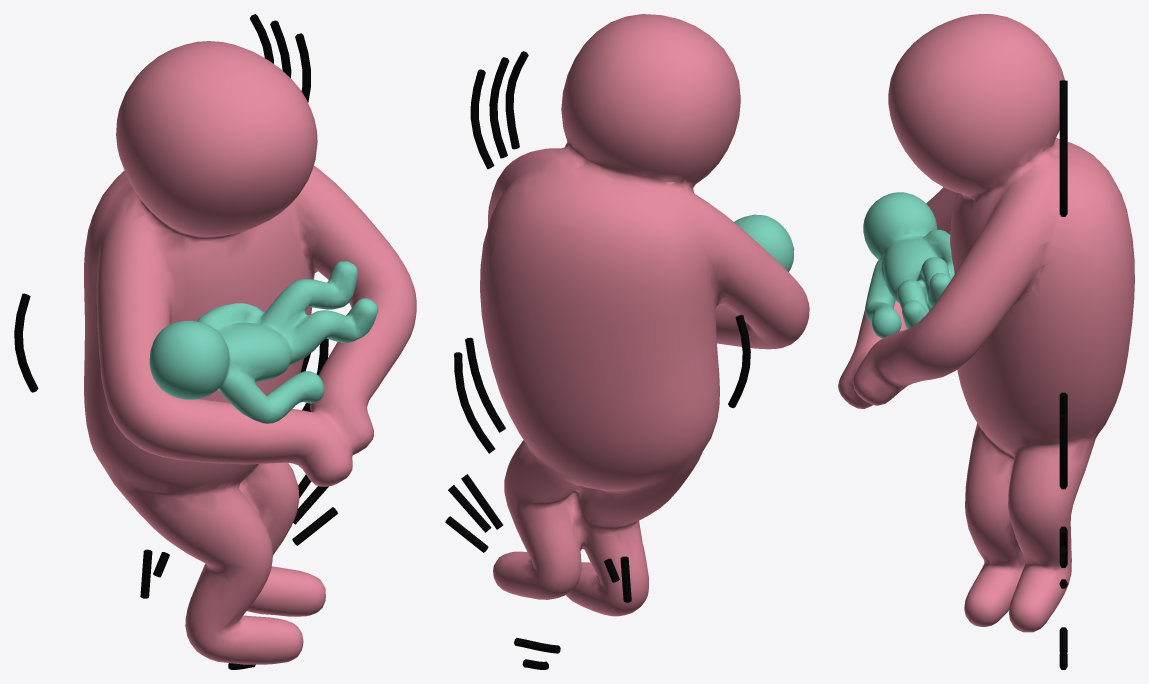
3 renders of one model, left to right at view 1: azimuth 30°, elevation 25°; view 2: azimuth 150°, elevation 25°; view 3: azimuth 270°, elevation 25°, orthographic. The views are drawn at different scales.
Parts seen in each view (by area): view 1: Cube.025, Cube.026, BézierCurve.010; view 2: Cube.025, BézierCurve.010, Cube.026; view 3: Cube.025, Cube.026, BézierCurve.010.
Part boxes in pixels (box(x1,y1,x2,y2)): Cube.025: box(84, 41, 416, 664); Cube.026: box(149, 261, 378, 423); BézierCurve.010: box(14, 14, 337, 669); Cube.025: box(480, 14, 809, 616); BézierCurve.010: box(445, 51, 750, 669); Cube.026: box(734, 214, 794, 271); Cube.025: box(838, 14, 1134, 632); Cube.026: box(863, 192, 954, 338); BézierCurve.010: box(1059, 80, 1067, 669).
Bounding box in the file's own units: 0.7052 × 1.36 × 0.6018.
